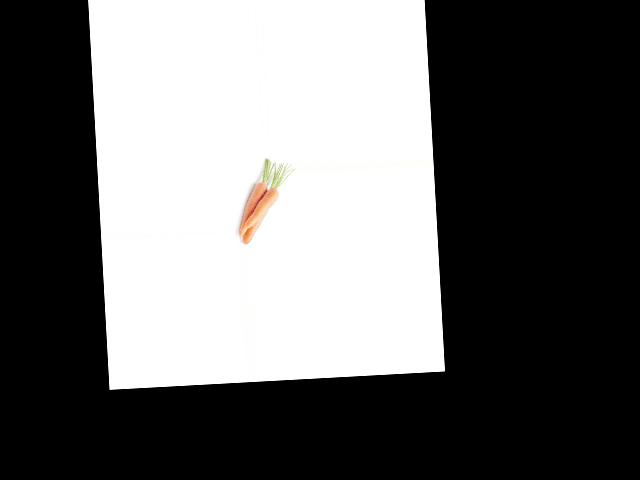carrot: (240, 207, 270, 244)
